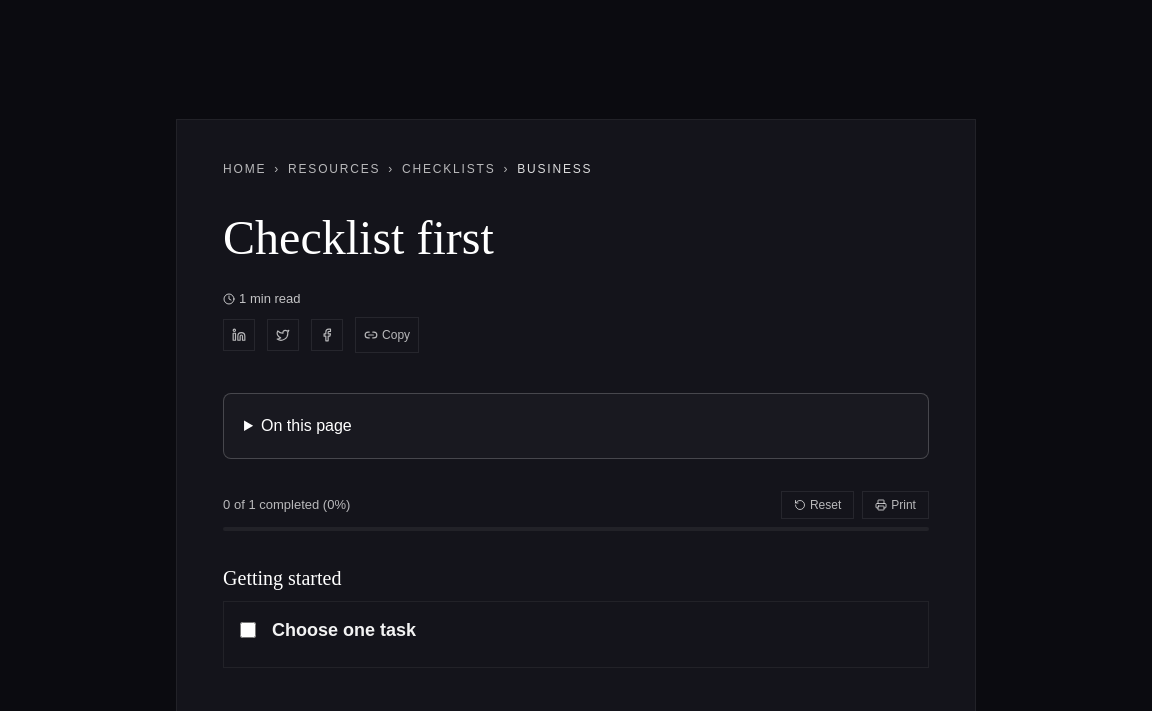
resource interactions › resets checklist and feedback state and records the next resource on client navigation
Later steps or results of the test are not shown.
Step 1. Click the checkbox → (248, 630), box [240, 622, 256, 638]
(page scrolled)
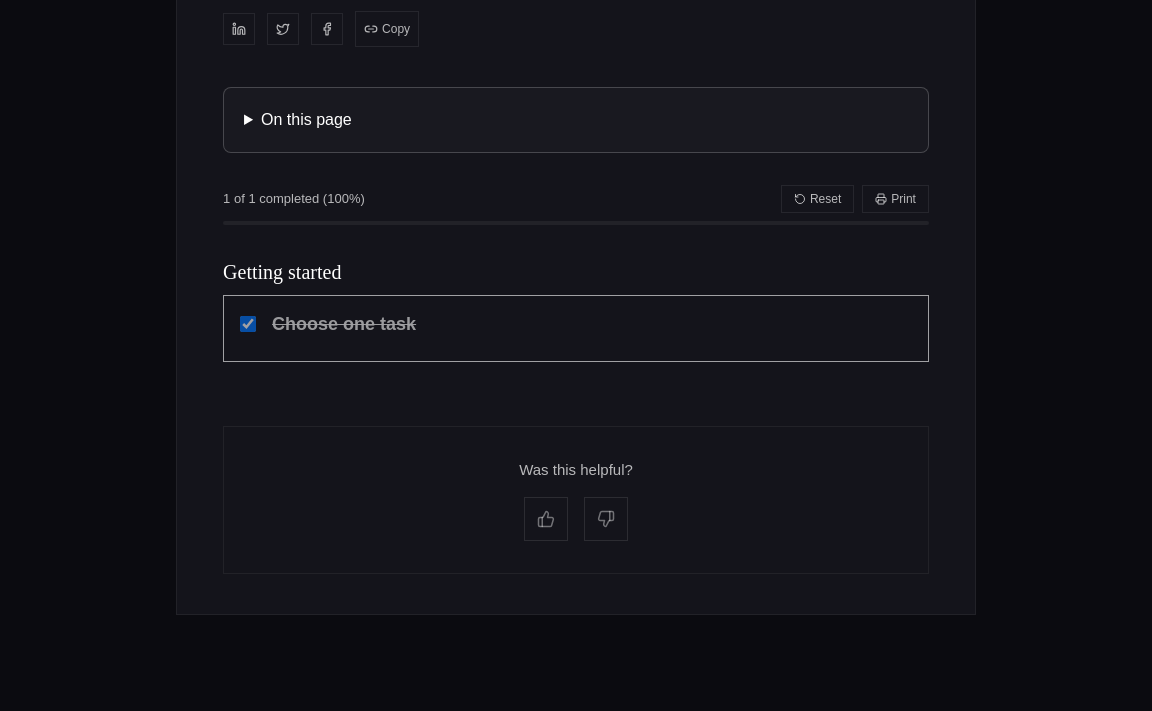
Step 2. Click the button named "This resource was helpful" → (546, 519), box [524, 497, 568, 541]
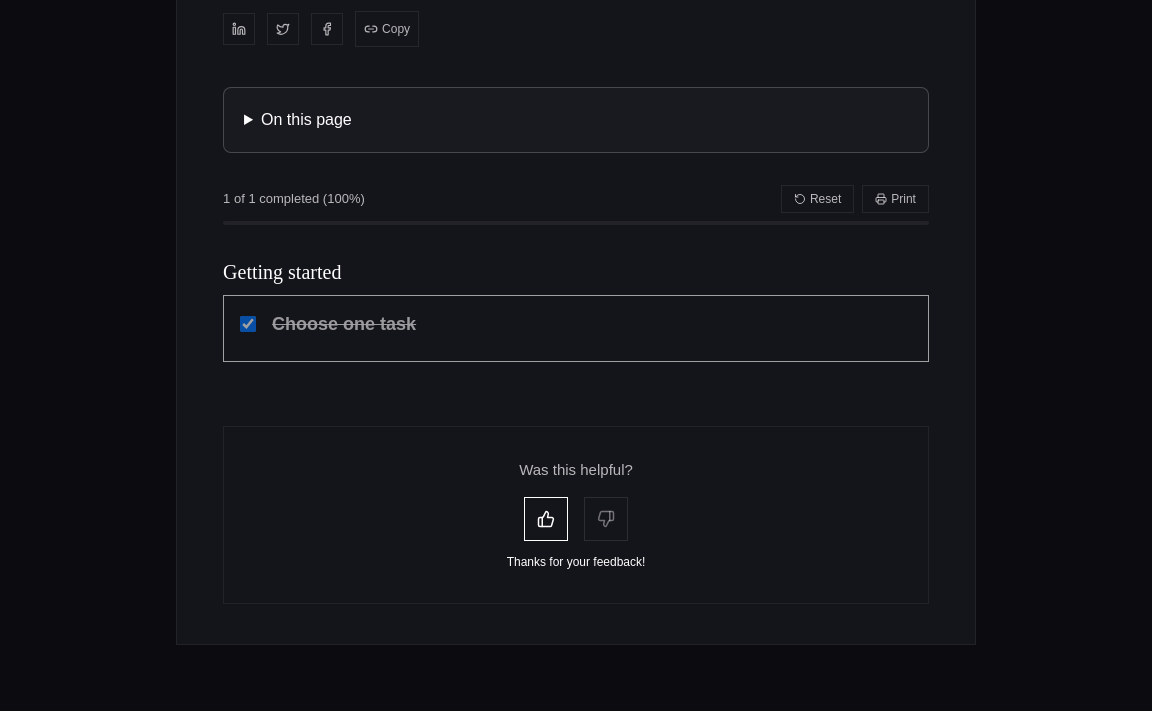
Check: the text "1 of 1 completed (100%)" is shown, box [223, 189, 365, 208]
Check: the text "Thanks for your feedback!" is shown, box [507, 555, 645, 569]
